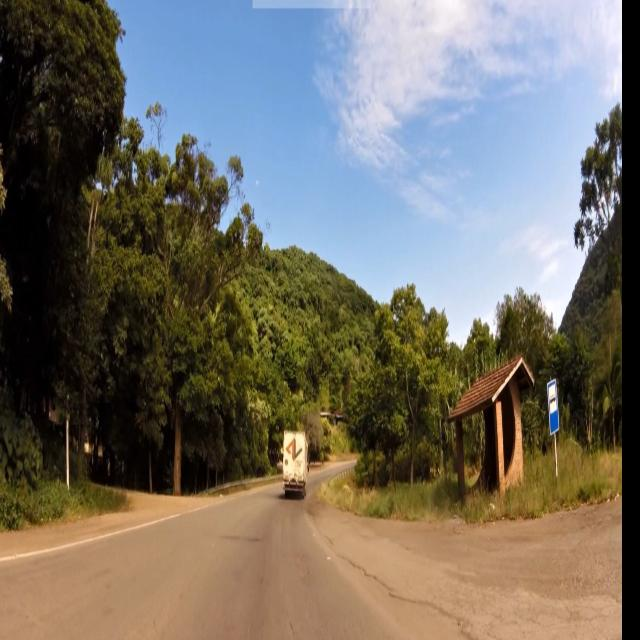S-14: (546, 376, 562, 439)
